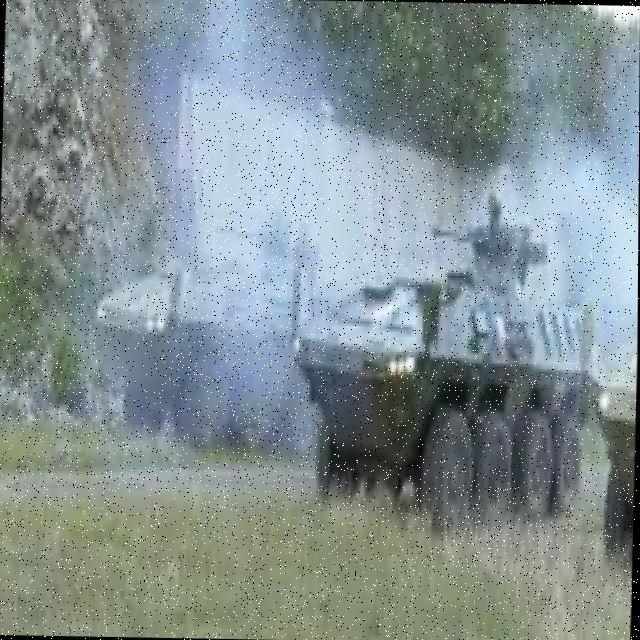MIL_APC: (295, 262, 624, 536), (96, 244, 339, 449)
